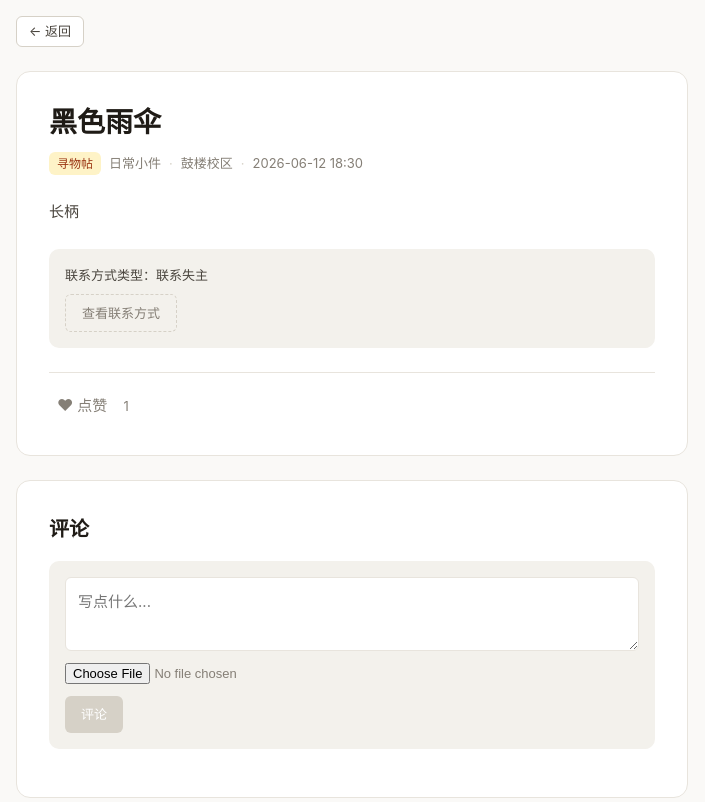
Test: PostDetail › 点赞按钮切换数字与状态
Click the button with test id "like-btn".
click(82, 406)  # box [49,390,115,423]
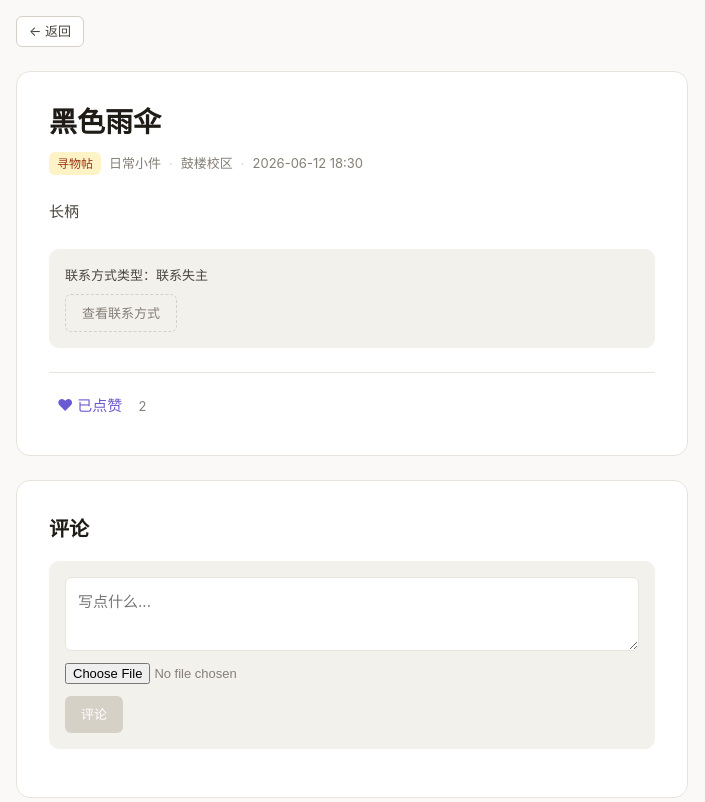
Result: the text with test id "like-count" reads "2" at [138,398,146,414]
Result: the button with test id "like-btn" shows "已点赞" at [49,390,130,423]
